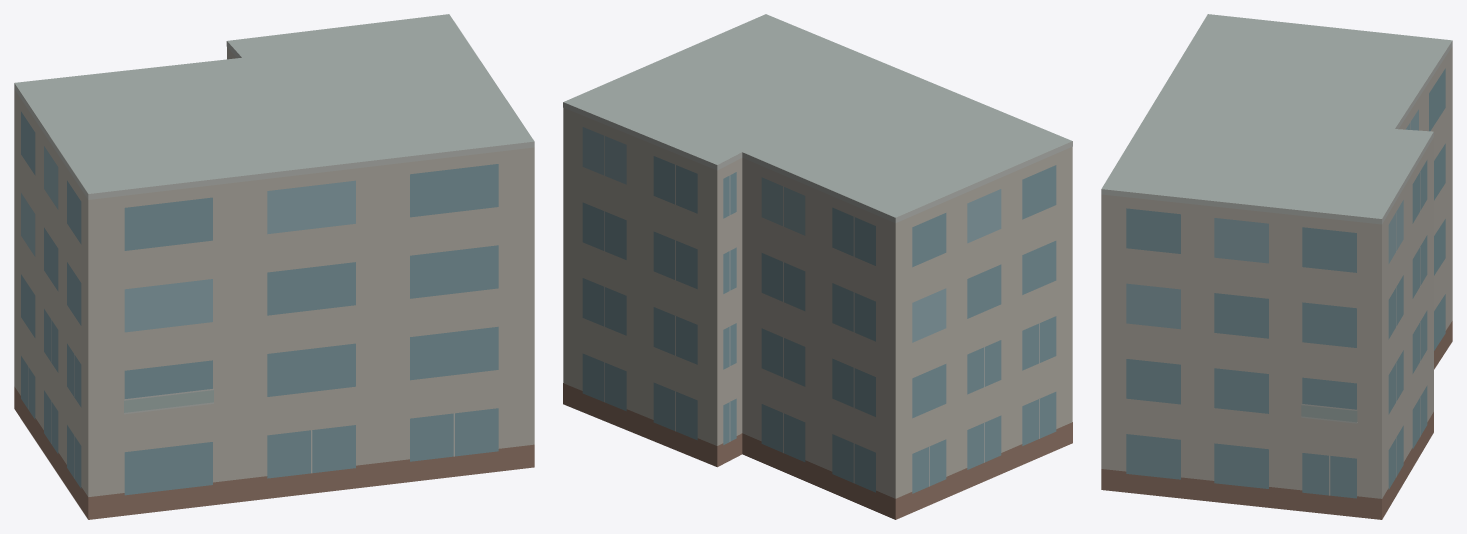
File: survey-upis-32702446.glb
3 views of the same model, side by side, from view 1: azimuth 30°, elevation 25°; view 2: azimuth 150°, elevation 25°; view 3: azimuth 270°, elevation 25° (orthographic). The views are drawn at different scales.
Parts seen in each view (by area): view 1: survey-upis-32702446.tmp; view 2: survey-upis-32702446.tmp; view 3: survey-upis-32702446.tmp.
Part boxes in pixels (x1,y1,x2,y2): survey-upis-32702446.tmp: (14,14,534,519); survey-upis-32702446.tmp: (563,14,1072,519); survey-upis-32702446.tmp: (1101,14,1452,519).
Bounding box in the file's own units: 19.82 × 13.55 × 14.35.
